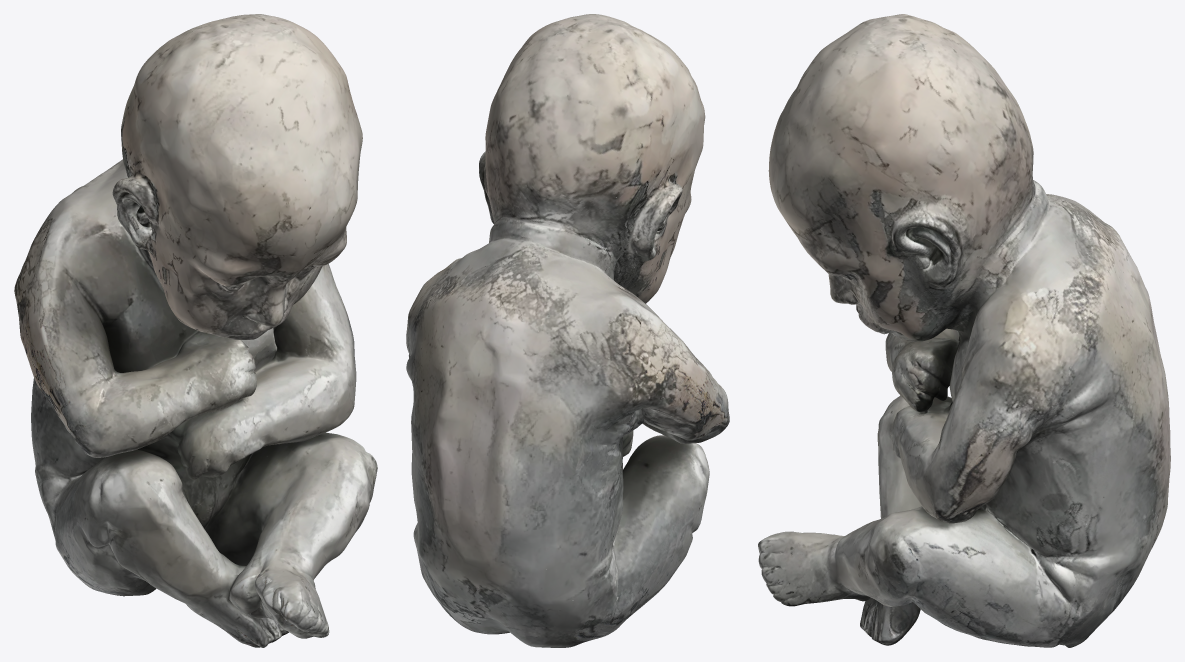
The model's file is baby.glb.
The picture shows the model from 3 angles, left to right: view 1: azimuth 30°, elevation 25°; view 2: azimuth 150°, elevation 25°; view 3: azimuth 270°, elevation 25°; orthographic projection. The views are drawn at different scales.
Visible parts, largest first — view 1: tripo_node_99e8fe5e-1006-4b83-a44c-7baa5ac78987; view 2: tripo_node_99e8fe5e-1006-4b83-a44c-7baa5ac78987; view 3: tripo_node_99e8fe5e-1006-4b83-a44c-7baa5ac78987.
Part boxes in pixels (x1,y1,x2,y2): tripo_node_99e8fe5e-1006-4b83-a44c-7baa5ac78987: [14, 14, 377, 647]; tripo_node_99e8fe5e-1006-4b83-a44c-7baa5ac78987: [406, 14, 729, 647]; tripo_node_99e8fe5e-1006-4b83-a44c-7baa5ac78987: [758, 14, 1170, 647].
Bounding box in the file's own units: 0.5093 × 0.9791 × 0.6051.
1 material, 1 textured.
